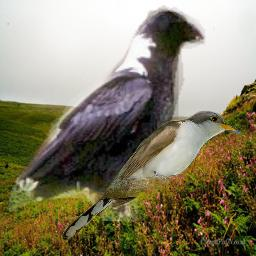Crow: (9, 1, 206, 221)
Cuckoo: (59, 109, 243, 242)
